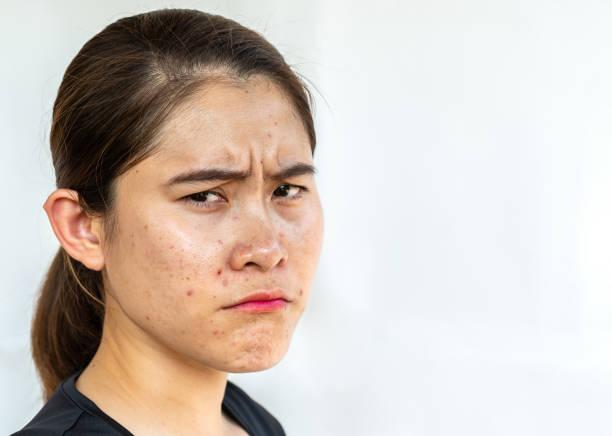Dry-Skin: (153, 234, 308, 362), (190, 74, 242, 196), (242, 211, 339, 246), (113, 218, 183, 261), (214, 97, 333, 112), (368, 104, 389, 109)
